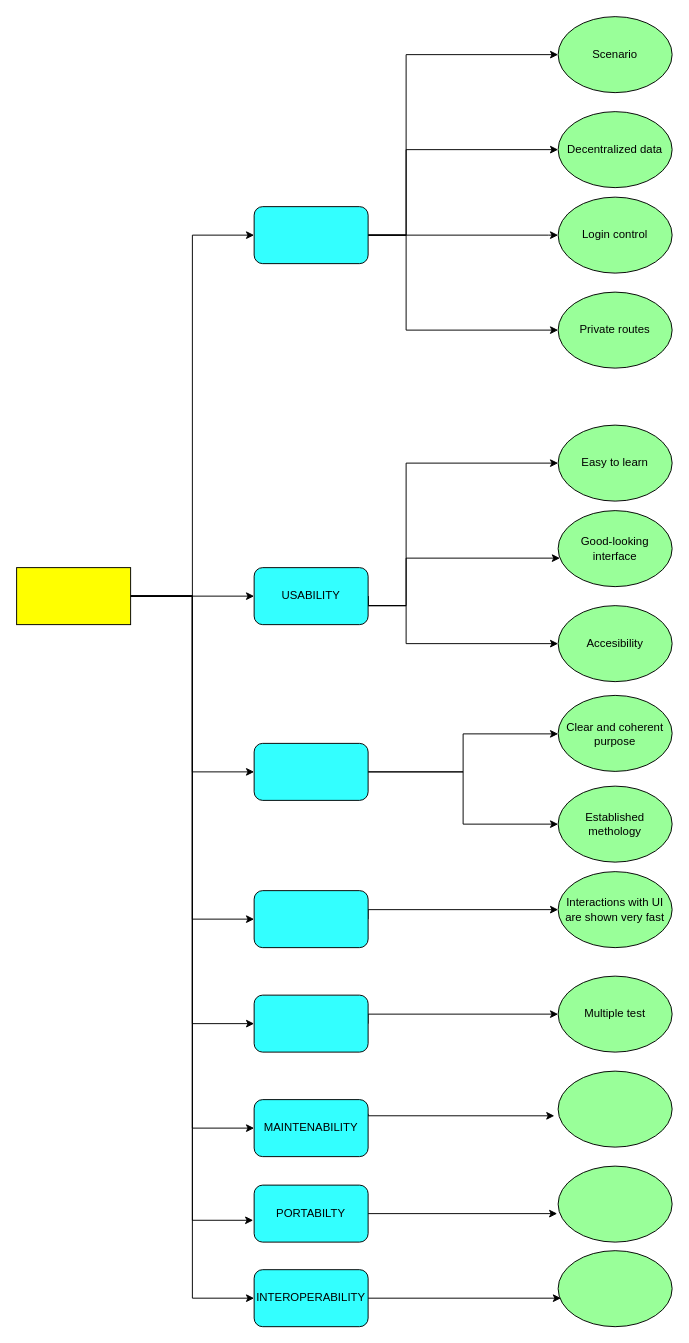
Some shapes in this 689 by 1343 pixel diagram are drawn without their labels. Each missing label, with the centre of its shape:
"Communication with others" goes at pixel 614 1288.
"MODIFIABILITY" goes at pixel 310 771.
"Multiple platform" goes at pixel 614 1203.
"PERFOMANCE" goes at pixel 310 919.
"SECURITY" goes at pixel 310 235.
"Support changes" goes at pixel 614 1108.
"TESTABILITY" goes at pixel 310 1023.
"VIADE" goes at pixel 73 596.
